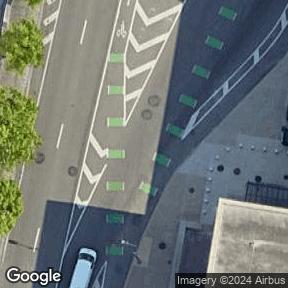vegetation: (0, 84, 43, 236), (0, 17, 45, 77)
